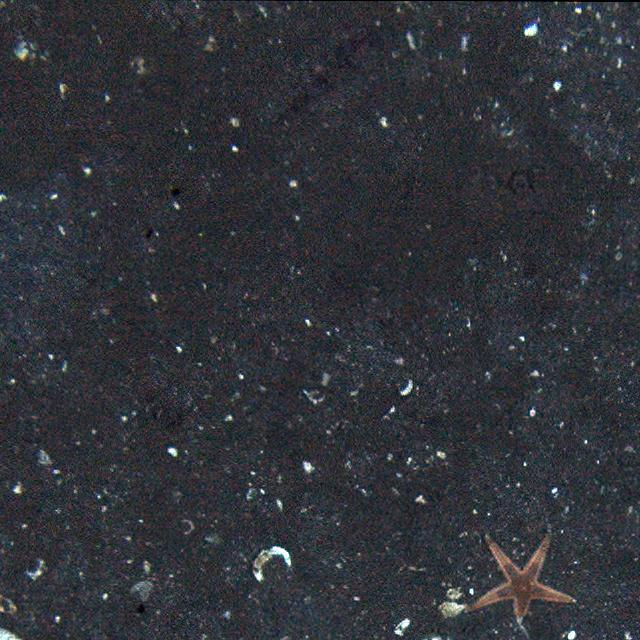flatfish: (238, 23, 389, 151)
